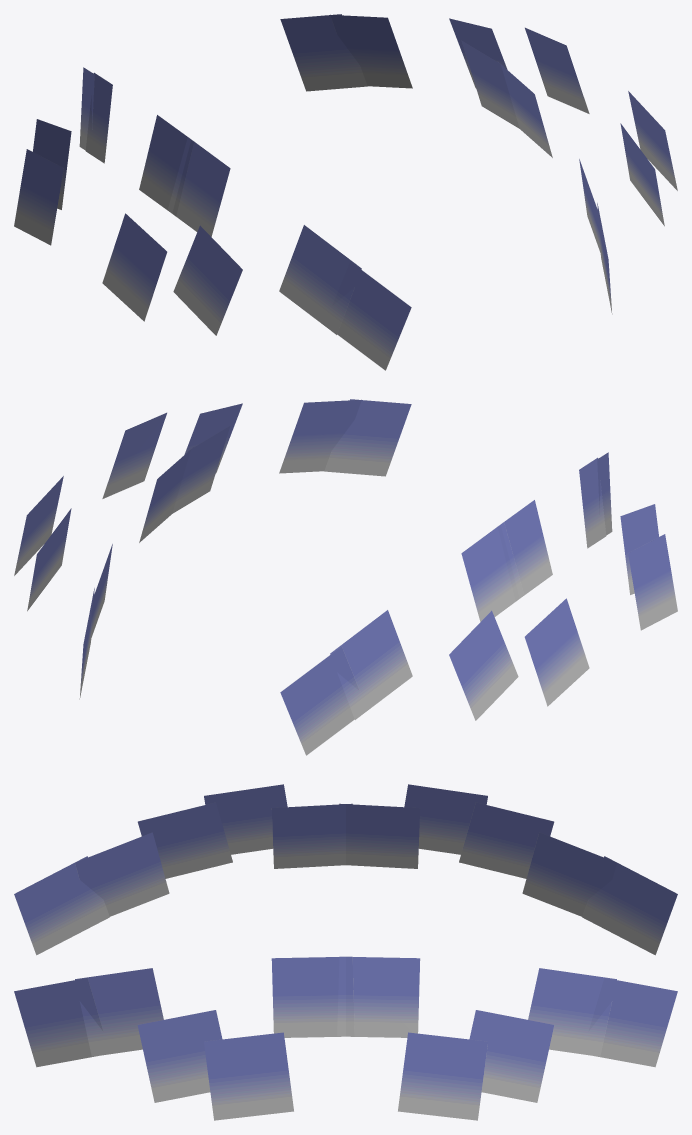
3 renders of one model, top to bottom at view 1: azimuth 30°, elevation 25°; view 2: azimuth 150°, elevation 25°; view 3: azimuth 270°, elevation 25°, orthographic.
Size of the model in its own units: 188 by 43.39 by 199.
1 material, 1 textured.
